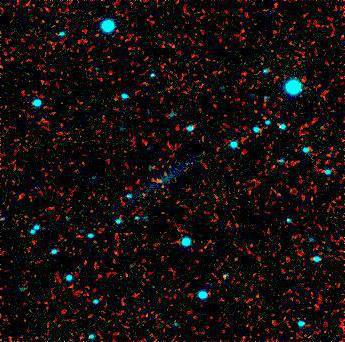star: (149, 167, 179, 197)
